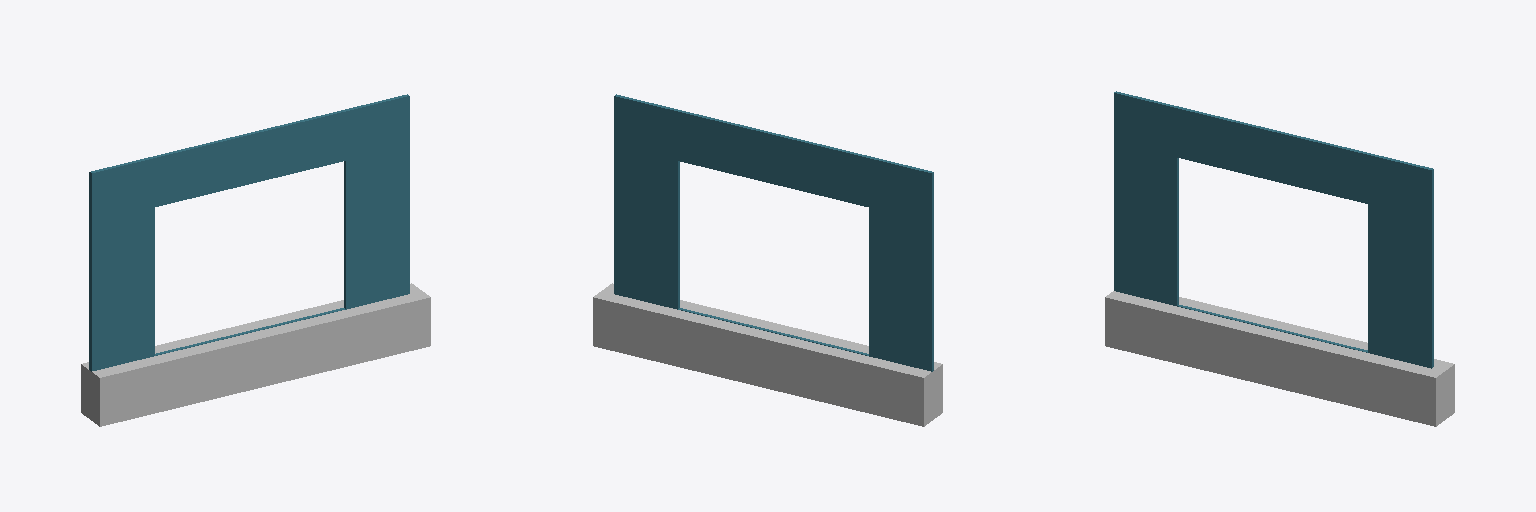
The model's file is dindingdepankanan.obj.
The picture shows the model from 3 angles: view 1: azimuth 30°, elevation 25°; view 2: azimuth 150°, elevation 25°; view 3: azimuth 330°, elevation 25°; orthographic projection.
Parts seen in each view (by area): view 1: Cube.001_Cube.080_Cube.001_Cube.005, Cube.084_Cube.085_Cube.084_Cube.002_Cube.084_Cube.085_Cube.084_C, Cube.086_Cube.087_Cube.086_Cube.002_Cube.086_Cube.087_Cube.086_C, Cube.087_Cube.088_Cube.087_Cube.002_Cube.087_Cube.088_Cube.087_C; view 2: Cube.001_Cube.080_Cube.001_Cube.005, Cube.086_Cube.087_Cube.086_Cube.002_Cube.086_Cube.087_Cube.086_C, Cube.087_Cube.088_Cube.087_Cube.002_Cube.087_Cube.088_Cube.087_C, Cube.084_Cube.085_Cube.084_Cube.002_Cube.084_Cube.085_Cube.084_C; view 3: Cube.001_Cube.080_Cube.001_Cube.005, Cube.084_Cube.085_Cube.084_Cube.002_Cube.084_Cube.085_Cube.084_C, Cube.086_Cube.087_Cube.086_Cube.002_Cube.086_Cube.087_Cube.086_C, Cube.087_Cube.088_Cube.087_Cube.002_Cube.087_Cube.088_Cube.087_C.
Part boxes in pixels (x1,y1,x2,y2): Cube.001_Cube.080_Cube.001_Cube.005: (81, 283, 430, 426); Cube.084_Cube.085_Cube.084_Cube.002_Cube.084_Cube.085_Cube.084_C: (90, 96, 408, 222); Cube.086_Cube.087_Cube.086_Cube.002_Cube.086_Cube.087_Cube.086_C: (344, 94, 409, 309); Cube.087_Cube.088_Cube.087_Cube.002_Cube.087_Cube.088_Cube.087_C: (89, 172, 154, 371); Cube.001_Cube.080_Cube.001_Cube.005: (593, 283, 942, 426); Cube.086_Cube.087_Cube.086_Cube.002_Cube.086_Cube.087_Cube.086_C: (614, 94, 679, 309); Cube.087_Cube.088_Cube.087_Cube.002_Cube.087_Cube.088_Cube.087_C: (869, 158, 933, 371); Cube.084_Cube.085_Cube.084_Cube.002_Cube.084_Cube.085_Cube.084_C: (678, 110, 933, 206); Cube.001_Cube.080_Cube.001_Cube.005: (1105, 291, 1454, 426); Cube.084_Cube.085_Cube.084_Cube.002_Cube.084_Cube.085_Cube.084_C: (1114, 91, 1430, 218); Cube.086_Cube.087_Cube.086_Cube.002_Cube.086_Cube.087_Cube.086_C: (1368, 153, 1433, 368); Cube.087_Cube.088_Cube.087_Cube.002_Cube.087_Cube.088_Cube.087_C: (1114, 142, 1178, 305).
Size of the model in its own units: 28.03 by 20.01 by 2.81.